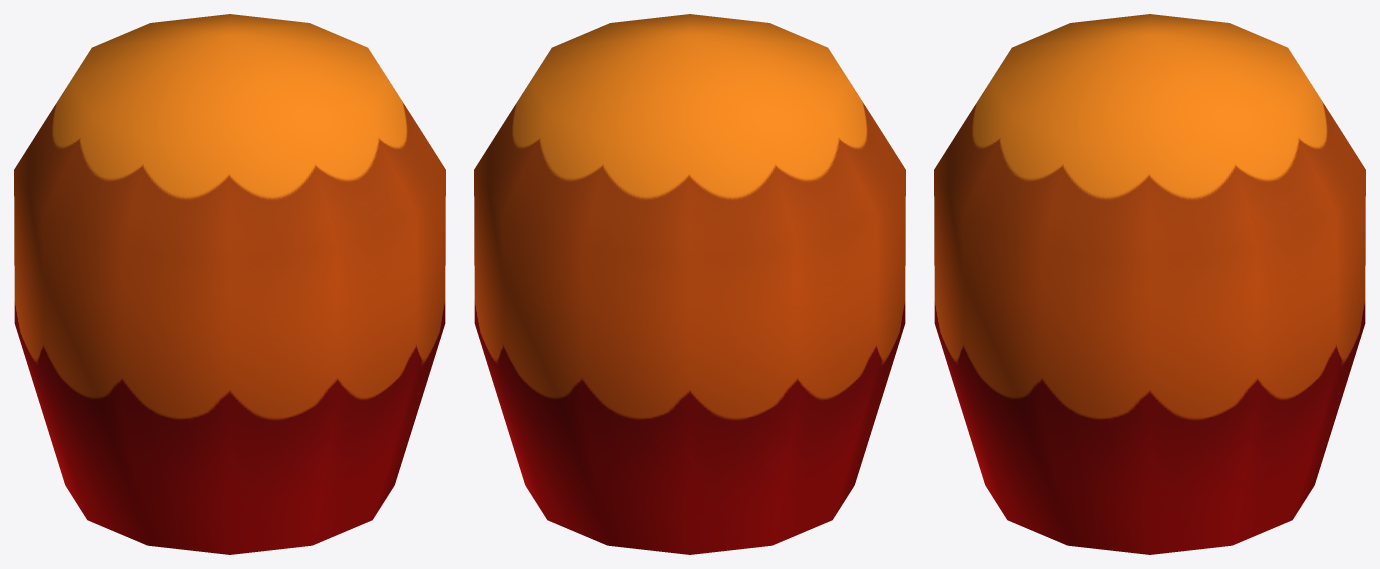
The model's file is GrassBush_Brown.FBX.
3 views of the same model, side by side, from view 1: azimuth 30°, elevation 25°; view 2: azimuth 150°, elevation 25°; view 3: azimuth 270°, elevation 25° (orthographic).
Visible parts, largest first — view 1: GrassBush_Brown; view 2: GrassBush_Brown; view 3: GrassBush_Brown.
Part boxes in pixels (x1=…): GrassBush_Brown: x1=14, y1=14, x2=445, y2=554; GrassBush_Brown: x1=474, y1=14, x2=905, y2=554; GrassBush_Brown: x1=934, y1=14, x2=1365, y2=554.
Size of the model in its own units: 107 by 122 by 107.
1 material, 1 textured.
